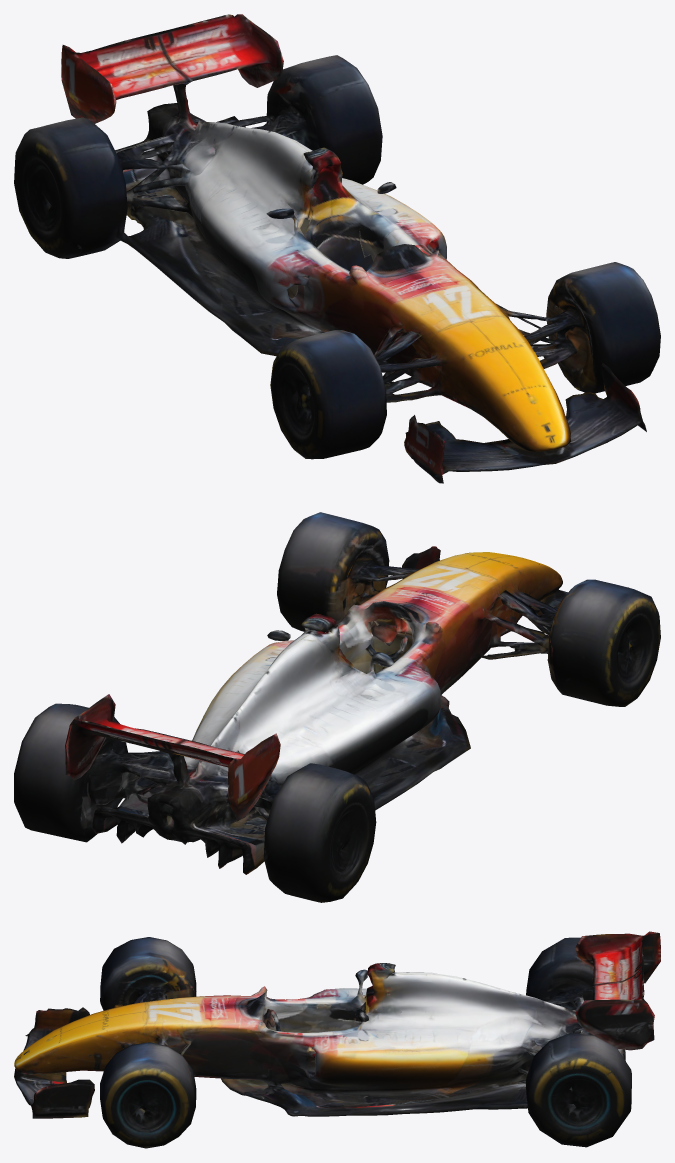
File: Meshy_AI_Formula_1.glb
3 views of the same model, one above another, from view 1: azimuth 30°, elevation 25°; view 2: azimuth 150°, elevation 25°; view 3: azimuth 270°, elevation 25° (orthographic). The views are drawn at different scales.
Size of the model in its own units: 0.9587 by 0.4316 by 2.
Materials: 1 (1 with a texture image).
